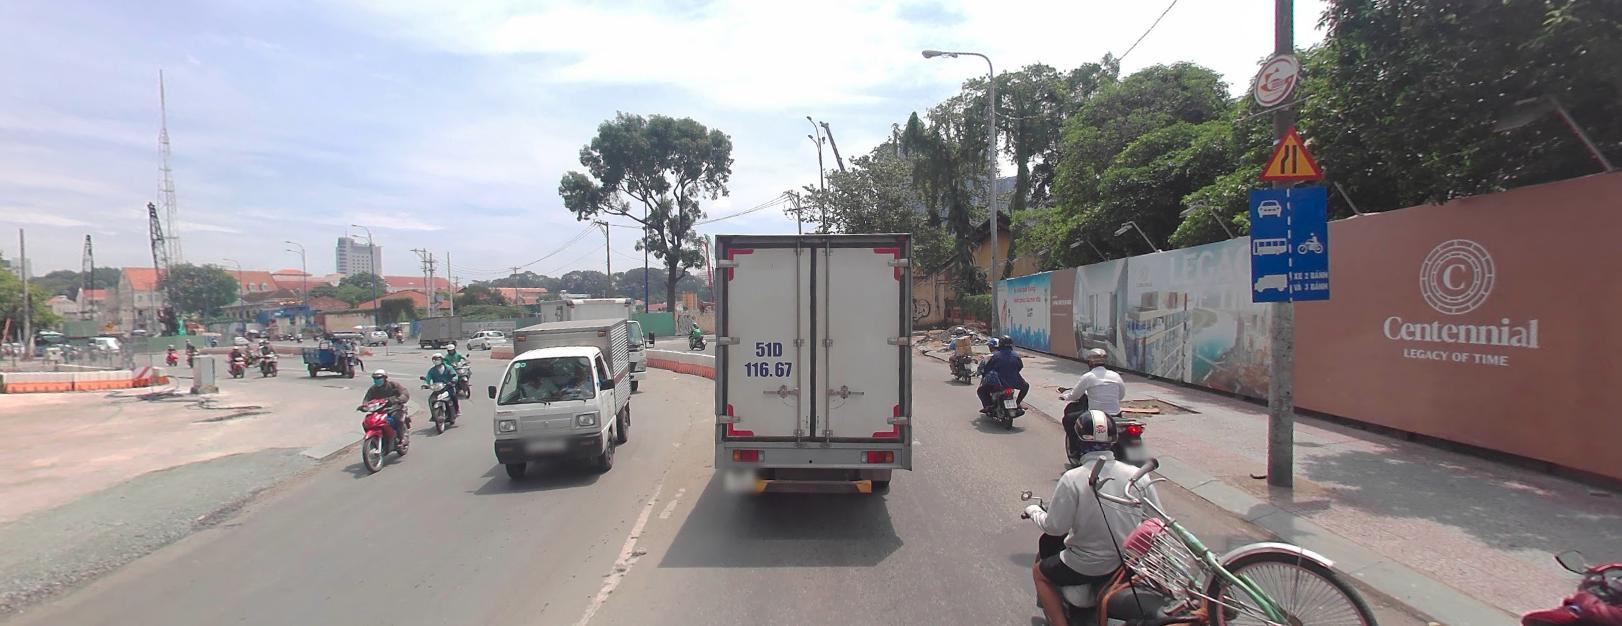Nguy hiem: (1260, 125, 1322, 180)
